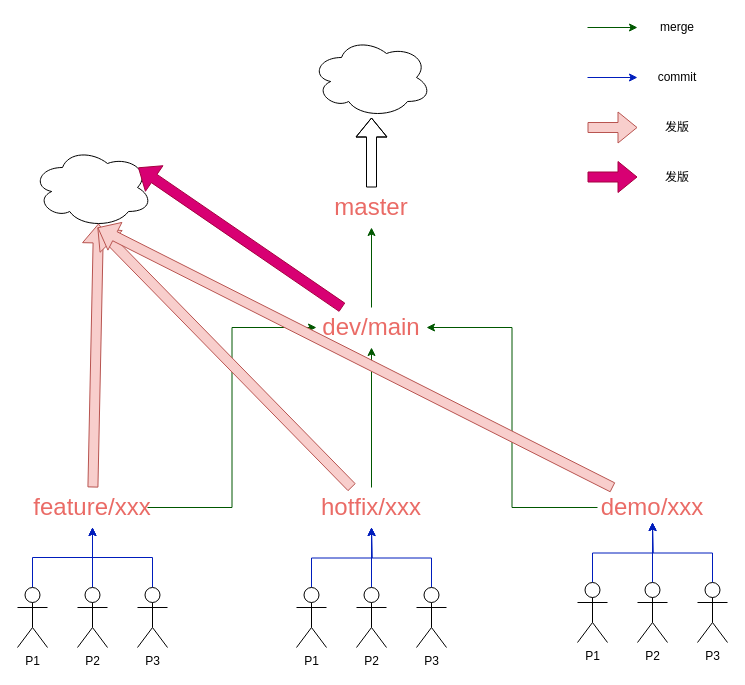
The diagram is 745 pixels wide and 685 high, and some of its shapes have lost their labels. The centre of each missing label's shape, as x and y in pixels:
测试环境: [92,187]
线上: [371,77]
